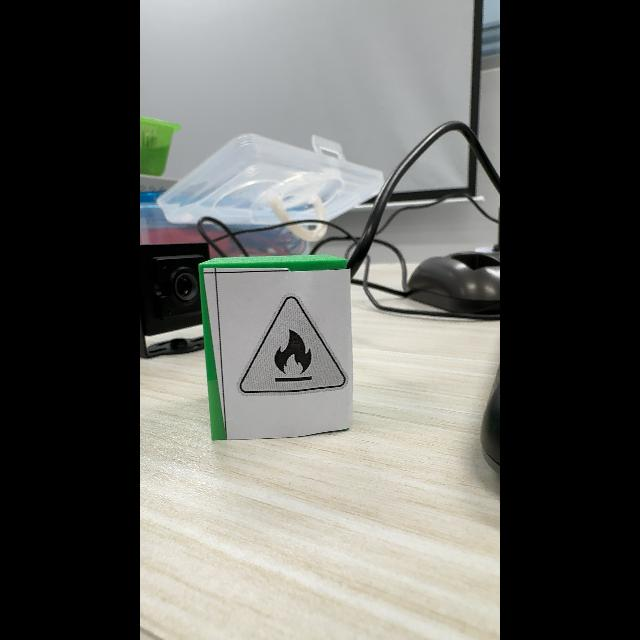Fire: (239, 296, 347, 394)
